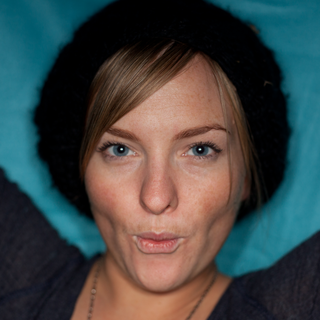eye: (177, 138, 222, 164), (94, 138, 143, 161)
